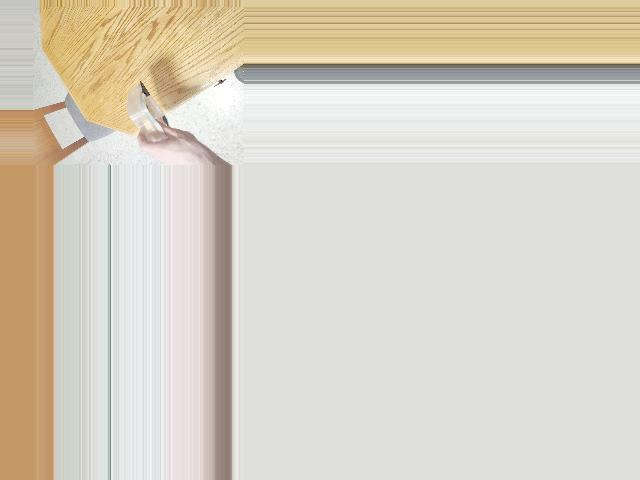cheese: (110, 95, 192, 156)
